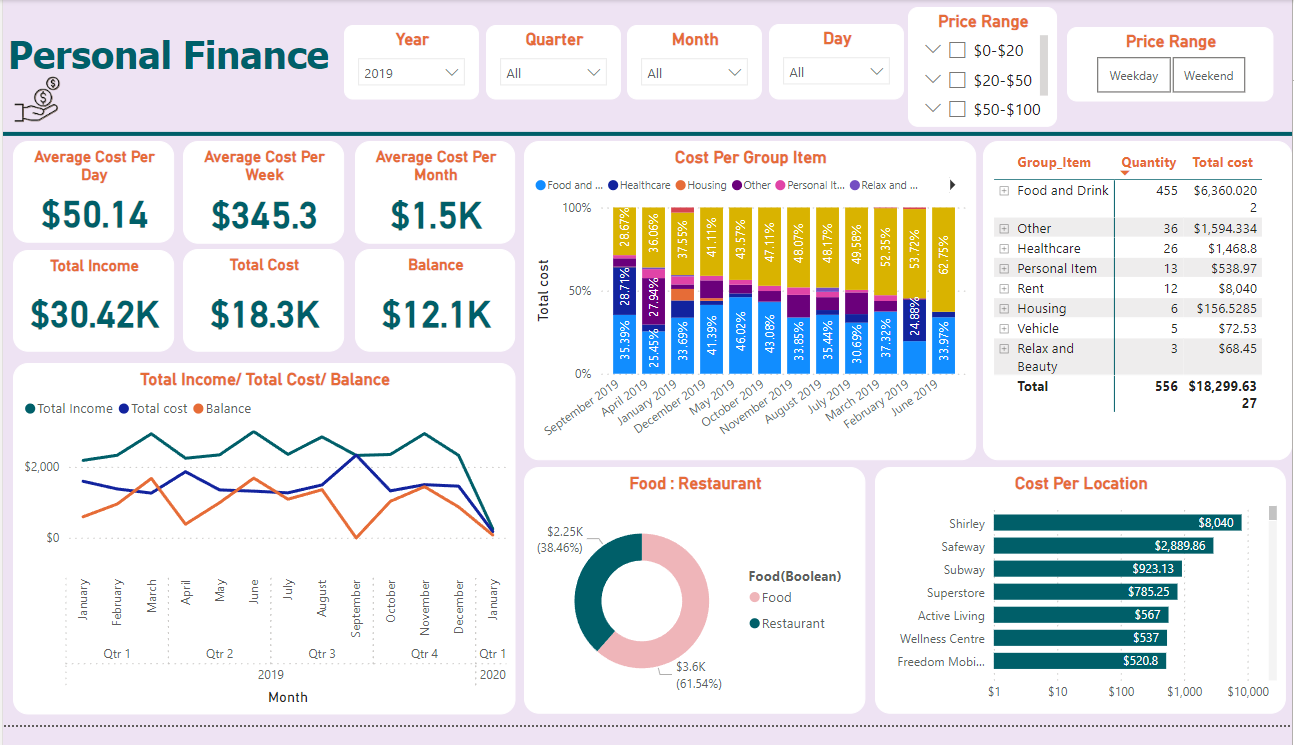

Layout of this report page (visuals, bound fields, positions):
{"tool":"powerbi","page":{"name":"Summary","canvas":[1280,720],"ordinal":0},"visuals":[{"type":"slicer","title":"Year","fields":{"Values":["Calendar_Lookup.Year"]},"box":[339,25,134,74],"z":0},{"type":"slicer","title":"Quarter","fields":{"Values":["Calendar_Lookup.Quater"]},"box":[480,25,134,74],"z":1000},{"type":"slicer","title":"Day","fields":{"Values":["Calendar_Lookup.Day_Name"]},"box":[761,24,134,75],"z":2000},{"type":"slicer","title":"Month","fields":{"Values":["Calendar_Lookup.Month"]},"box":[620,25,134,74],"z":3000},{"type":"slicer","title":"Price Range","fields":{"Values":["Finance_Data.Price Range","Calendar_Lookup.Month_and_Year"]},"box":[899,7,148,119],"z":4000},{"type":"donutChart","title":"Food : Restaurant","fields":{"Category":["Finance_Data.Food(Boolean)"],"Y":["Finance_Data.Total cost"]},"box":[517,464,339,245],"z":5000},{"type":"barChart","title":"Cost Per Location","fields":{"Category":["Finance_Data.LOCATION"],"Y":["Finance_Data.COST"]},"box":[866,464,408,245],"z":6000},{"type":"hundredPercentStackedColumnChart","title":"Cost Per Group Item","fields":{"Y":["Finance_Data.Total cost"],"Category":["Calendar_Lookup.Month_and_Year"],"Series":["Finance_Data.Group_Item1"]},"box":[517.4,140,448.8,316.8],"z":7000},{"type":"shape","box":[0,126.4,1280,13.7],"z":8000},{"type":"textbox","box":[0,27,339,56],"z":9000},{"type":"image","box":[0,67,68,64],"z":10000},{"type":"slicer","title":"Price Range","fields":{"Values":["Calendar_Lookup.Weekday"]},"box":[1057,27,205,74],"z":11000},{"type":"pivotTable","fields":{"Rows":["Finance_Data.Group_Item1","Finance_Data.ITEM"],"Values":["Finance_Data.Count item","Finance_Data.Total cost"]},"box":[973.2,140,306.8,316.8],"z":12000},{"type":"card","title":"Average Cost Per Day","fields":{"Values":["Finance_Data.COST average per day"]},"box":[9.9,140,159.9,101.3],"z":13000},{"type":"card","title":"Average Cost Per Week","fields":{"Values":["Finance_Data.COST average per End_of_Week"]},"box":[179,140,160,102],"z":14000},{"type":"card","title":"Average Cost Per Month","fields":{"Values":["Finance_Data.COST average per Month_Name"]},"box":[350,140,159,102],"z":15000},{"type":"card","title":"Total Income","fields":{"Values":["Income.Income"]},"box":[10,248,160,101],"z":16000},{"type":"card","title":"Total Cost","fields":{"Values":["Finance_Data.Total cost"]},"box":[179,247,160,102],"z":17000},{"type":"card","title":"Balance","fields":{"Values":["Finance_Data.Balance"]},"box":[350,247,159,102],"z":18000},{"type":"lineChart","title":"Total Income/ Total Cost/ Balance","fields":{"Y":["Income.Total Income","Finance_Data.Total cost","Finance_Data.Balance"],"Category":["Calendar_Lookup.End_of_week.Variation.Date Hierarchy.Year","Calendar_Lookup.End_of_week.Variation.Date Hierarchy.Quarter","Calendar_Lookup.End_of_week.Variation.Date Hierarchy.Month"]},"box":[10,360,499,349],"z":19000}]}

Visuals, with their boxes in screenshot pixels (x1, y1, x2, y2), scaled from the page's 1280x720 canvas onto the 1294x745 screenshot:
"Year" slicer: left=343, top=26, right=478, bottom=102
"Quarter" slicer: left=485, top=26, right=621, bottom=102
"Day" slicer: left=769, top=25, right=905, bottom=102
"Month" slicer: left=627, top=26, right=762, bottom=102
"Price Range" slicer: left=909, top=7, right=1058, bottom=130
"Food : Restaurant" donutChart: left=523, top=480, right=865, bottom=734
"Cost Per Location" barChart: left=875, top=480, right=1288, bottom=734
"Cost Per Group Item" hundredPercentStackedColumnChart: left=523, top=145, right=977, bottom=473
shape: left=0, top=131, right=1293, bottom=145
textbox: left=0, top=28, right=343, bottom=86
image: left=0, top=69, right=69, bottom=136
"Price Range" slicer: left=1069, top=28, right=1276, bottom=105
pivotTable - Finance_Data.Group_Item1 x Finance_Data.ITEM: left=984, top=145, right=1293, bottom=473
"Average Cost Per Day" card: left=10, top=145, right=172, bottom=250
"Average Cost Per Week" card: left=181, top=145, right=343, bottom=250
"Average Cost Per Month" card: left=354, top=145, right=515, bottom=250
"Total Income" card: left=10, top=257, right=172, bottom=361
"Total Cost" card: left=181, top=256, right=343, bottom=361
"Balance" card: left=354, top=256, right=515, bottom=361
"Total Income/ Total Cost/ Balance" lineChart: left=10, top=373, right=515, bottom=734
